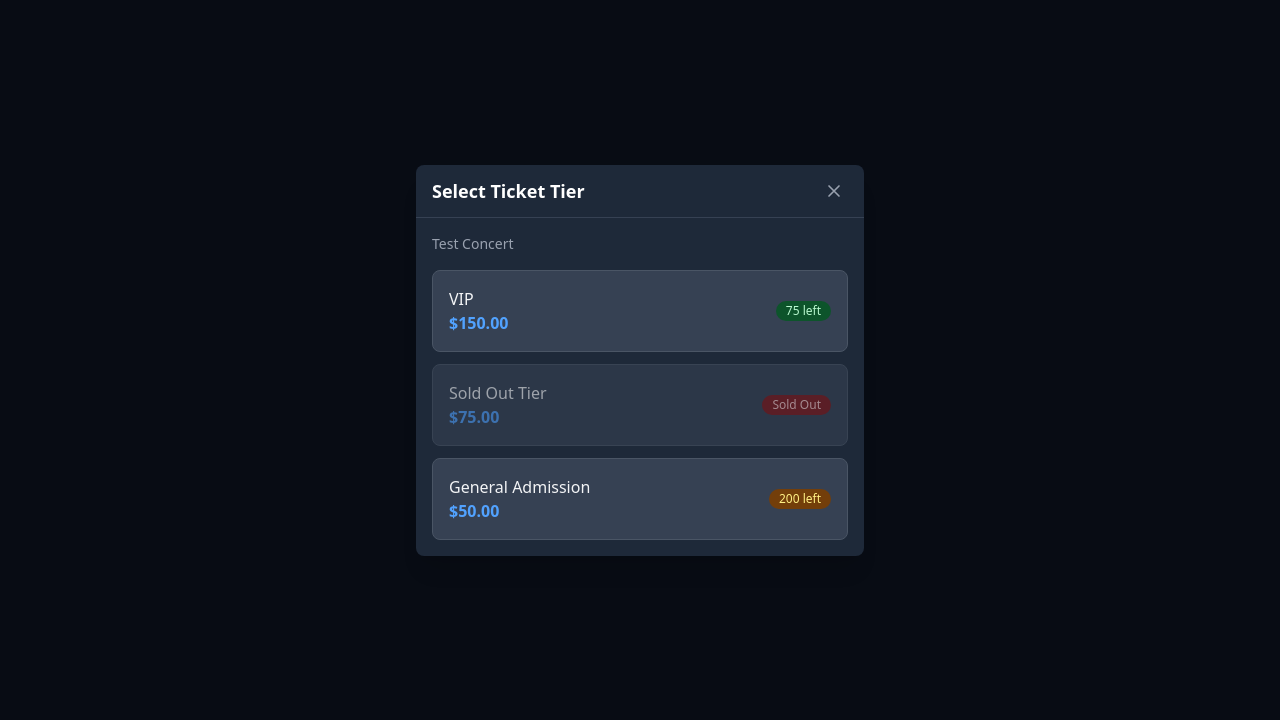
Scenario: BookingModal › Form Validation › shows validation error for empty email
Click the button "VIP $150.00 75 left" at (479, 322), box [432, 270, 848, 352]
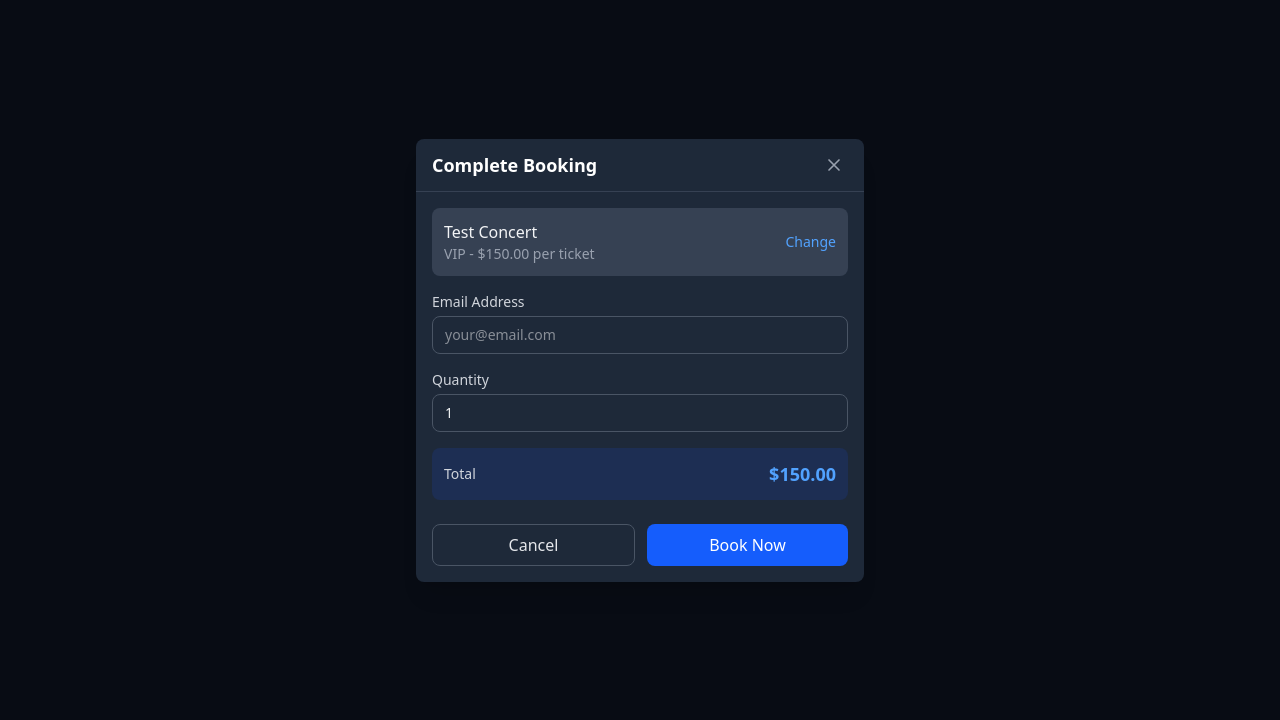
Click the button "Book Now" at (748, 544), box [647, 524, 848, 566]
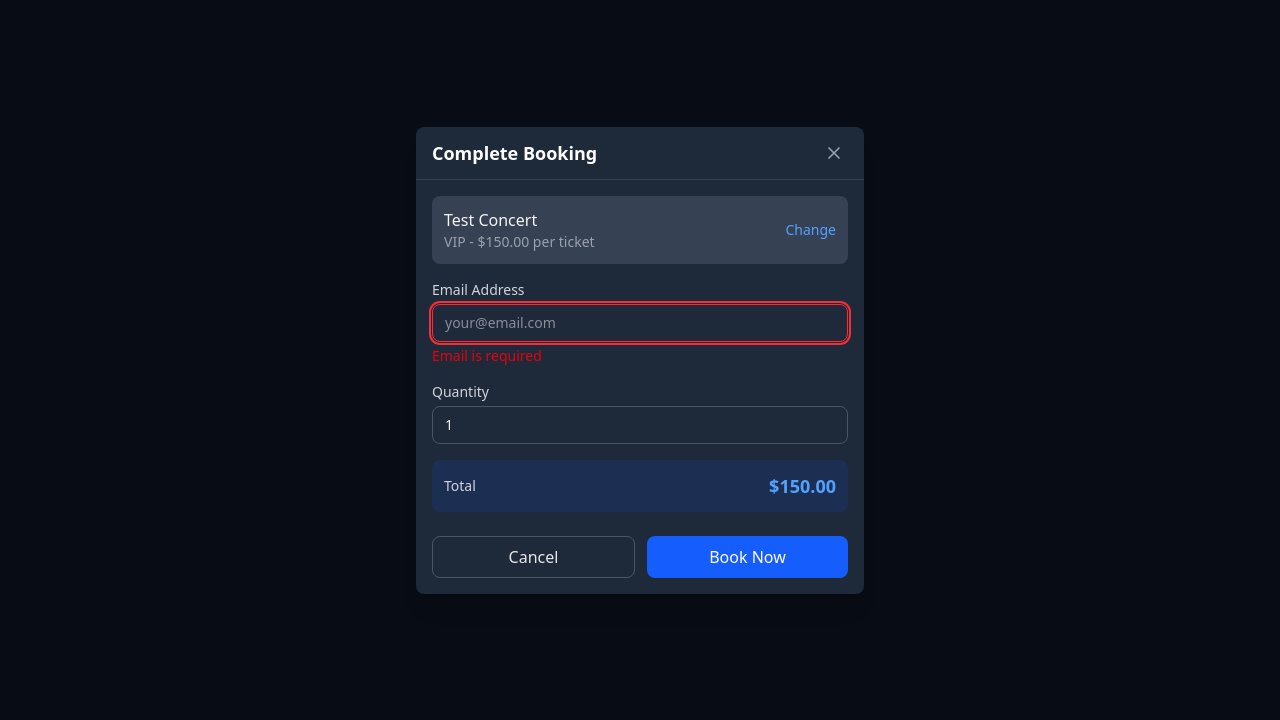
Check: the text "Email is required" is shown, box [432, 346, 542, 364]
